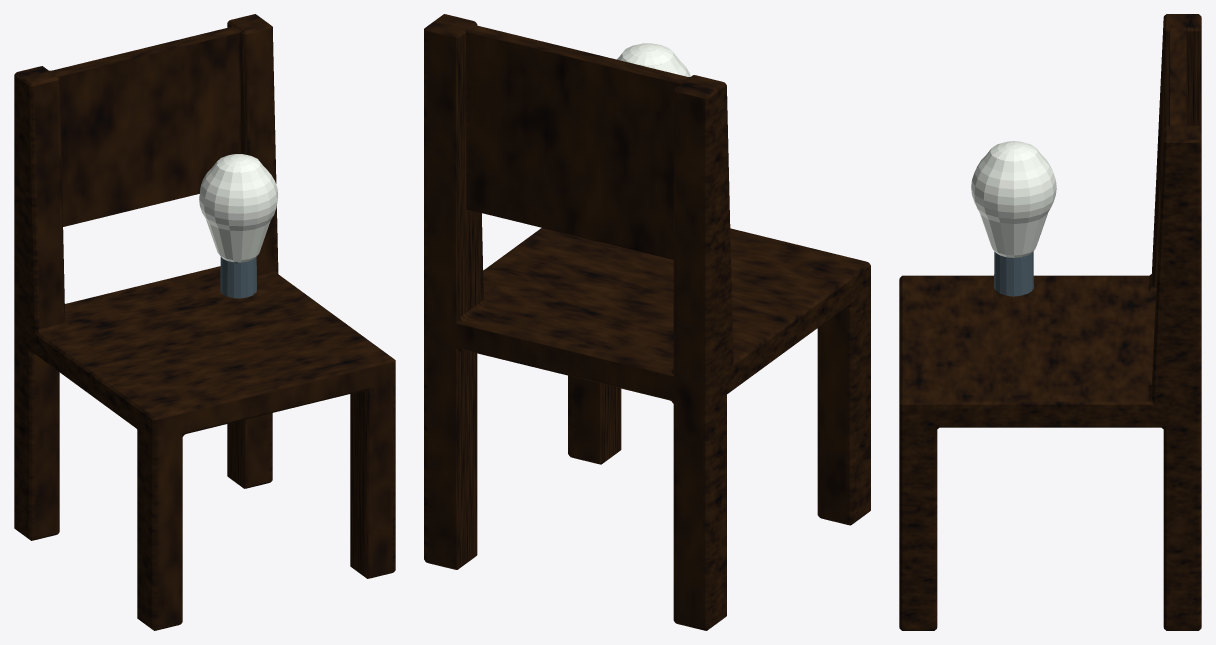
The model's file is Chair and Light Bulb.fbx.
3 renders of one model, left to right at view 1: azimuth 30°, elevation 25°; view 2: azimuth 150°, elevation 25°; view 3: azimuth 270°, elevation 25°, orthographic. The views are drawn at different scales.
Parts seen in each view (by area): view 1: Chair, Sphere; view 2: Chair, Sphere; view 3: Chair, Sphere.
Boxes of the visible parts, left/top/right/bottom form: Chair: left=14, top=14, right=395, bottom=630; Sphere: left=199, top=154, right=277, bottom=298; Chair: left=424, top=14, right=870, bottom=630; Sphere: left=617, top=43, right=690, bottom=76; Chair: left=899, top=14, right=1201, bottom=630; Sphere: left=971, top=141, right=1056, bottom=296.
Size of the model in its own units: 200 by 359 by 200.
